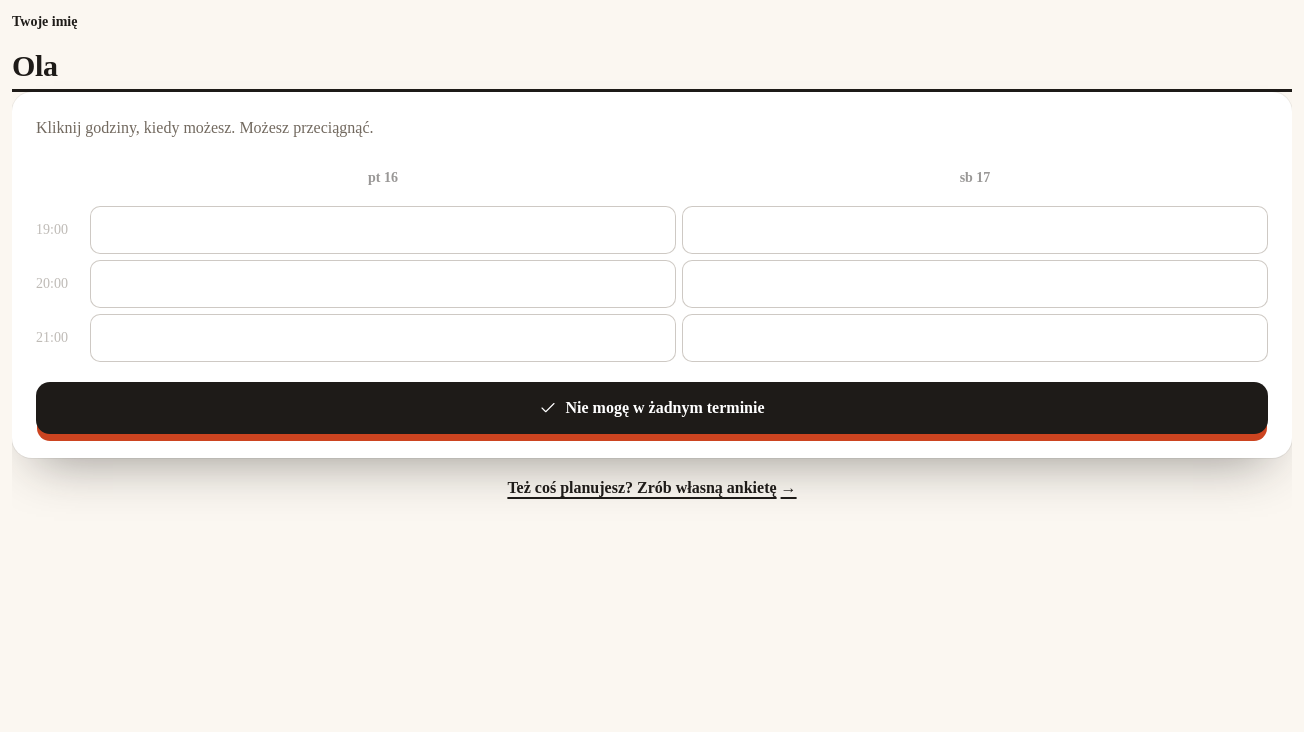
Test: the Moje lead and body › asks again as a newcomer after another device took this row over
The image size is (1304, 732).
Click the button named "pt 16, 19:00": (383, 230) [90,206,676,254]
Wait 500 ms
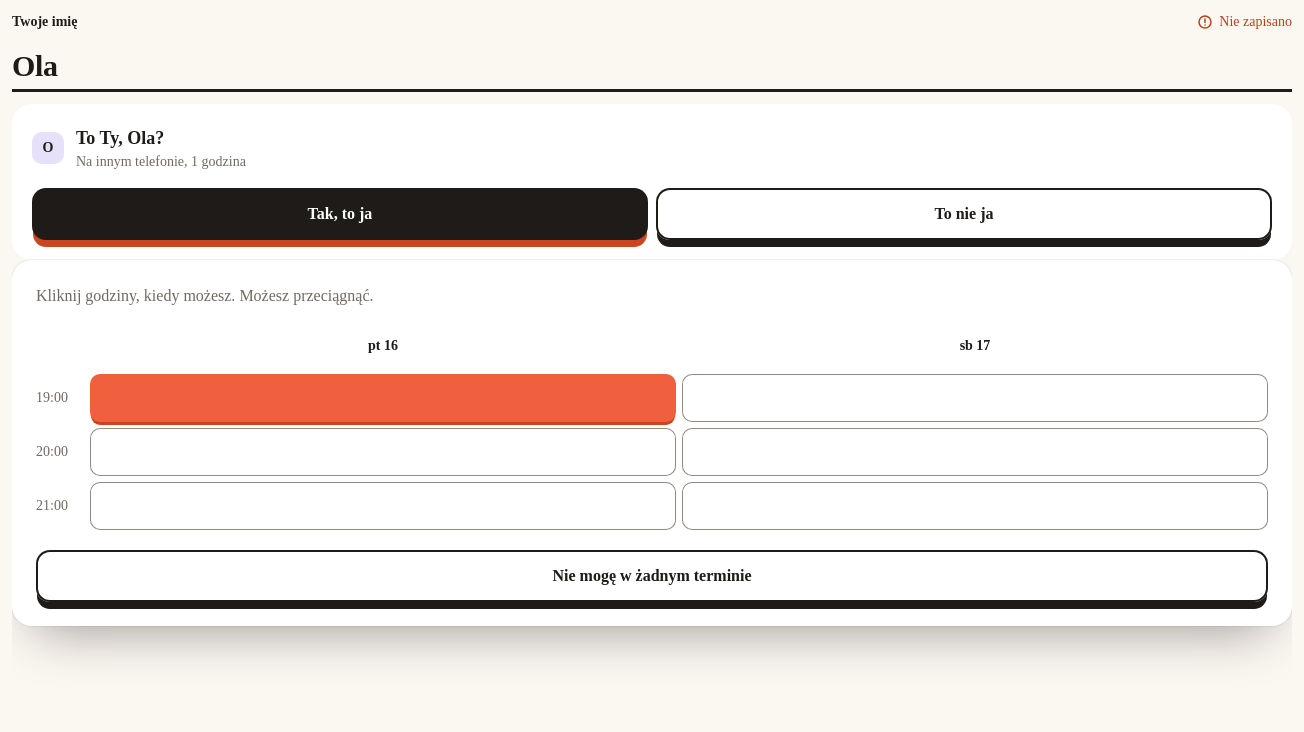
Expected: the heading "To Ty, Ola?" is shown, [76,128,164,148]
